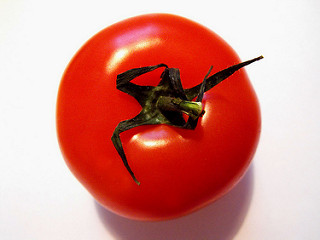tomato: (54, 13, 262, 220)
